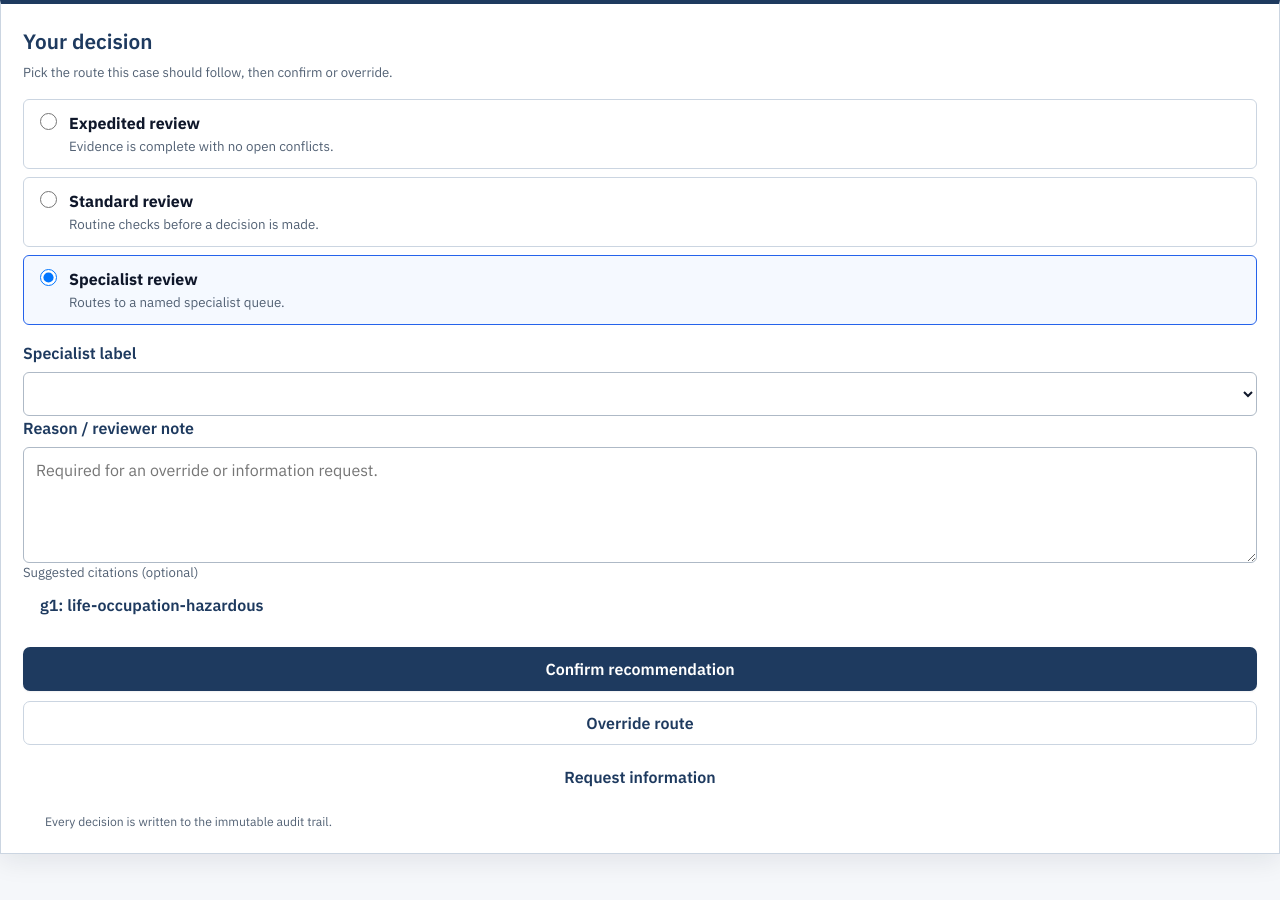
review citation suggestions › adds an accepted citation to the reason
This screenshot has width=1280, height=900.
Step 1. Click the button with aria-label "Use citation g1: life-occupation-hazardous" → (152,604), box [23,582,280,626]
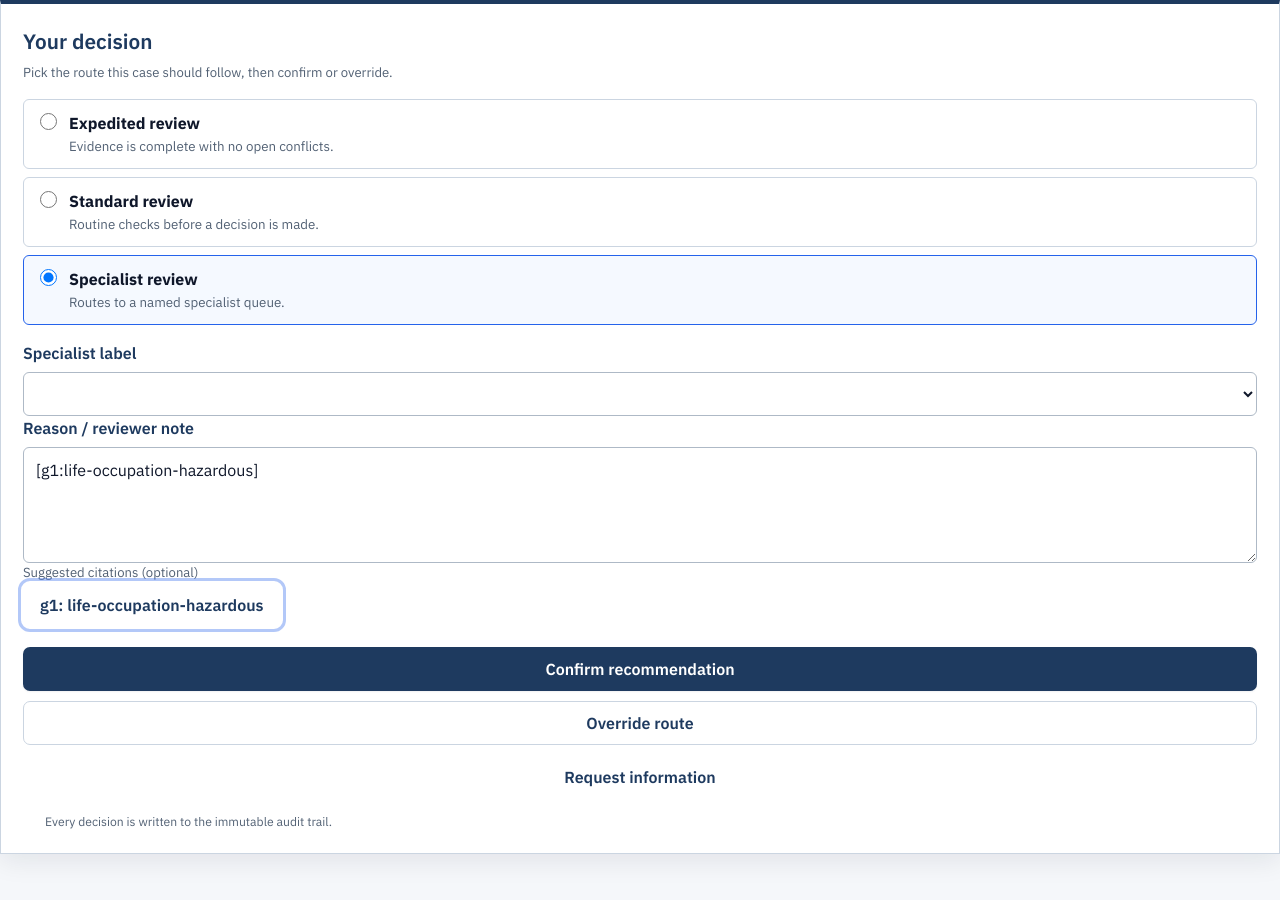
Check: the text box labelled "Reason / reviewer note" holds "[g1:life-occupation-hazardous]", box [23,447,1257,563]
